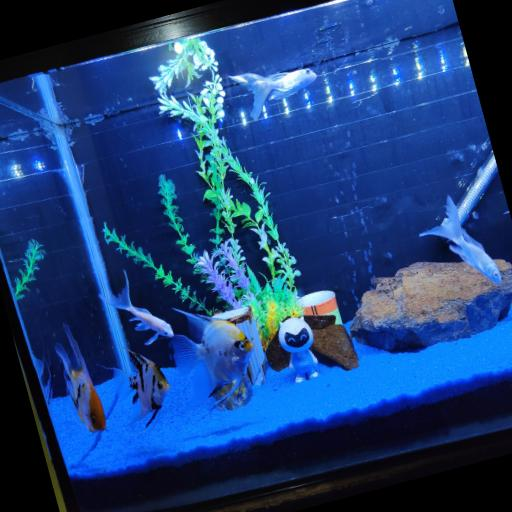Fish: (171, 309, 253, 409), (420, 196, 501, 283), (99, 270, 174, 345), (56, 324, 106, 432), (229, 69, 317, 120), (114, 349, 170, 427)
